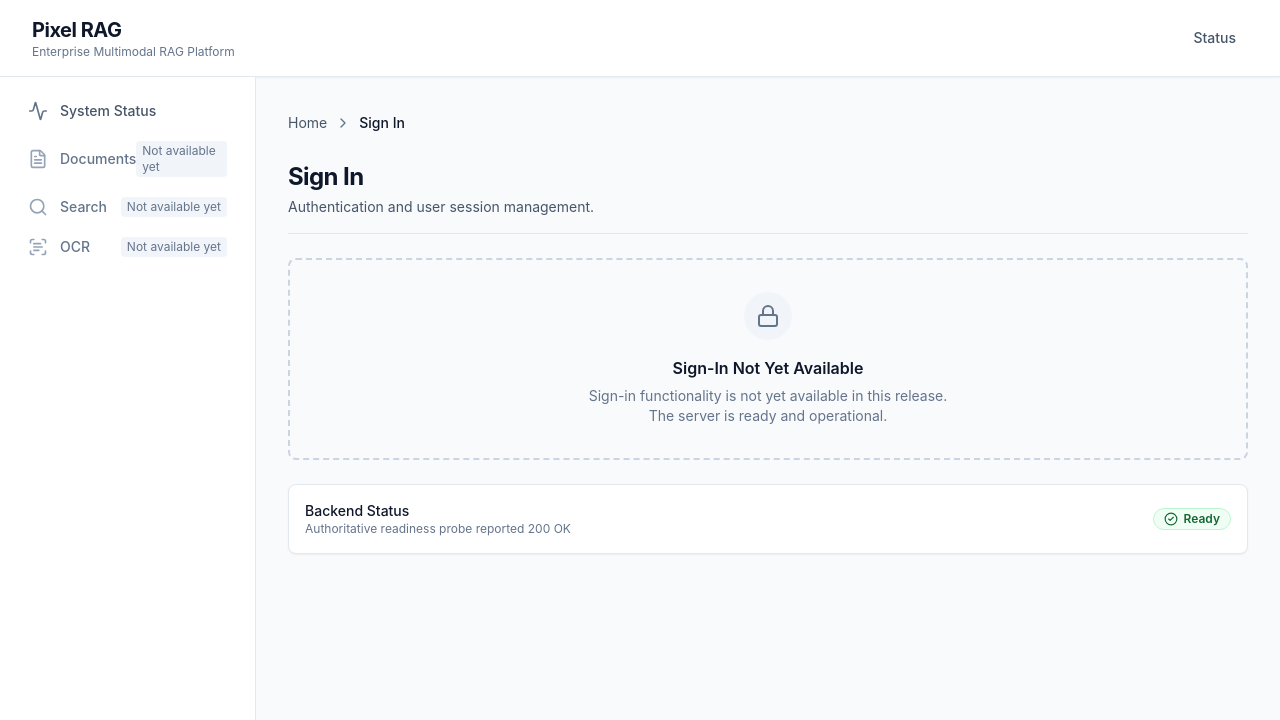
Test: Public Route Shell and Maintenance UX › Navigation, Focus Movement & Real Browser Back › moves focus to the main heading when navigating between routes
Expected: the heading "Sign In" is shown, [288,162,364,191]
Note: Click "Status" in header nav
Step 1. Click the link "Status" → (1215, 38), box [1193,29,1236,46]
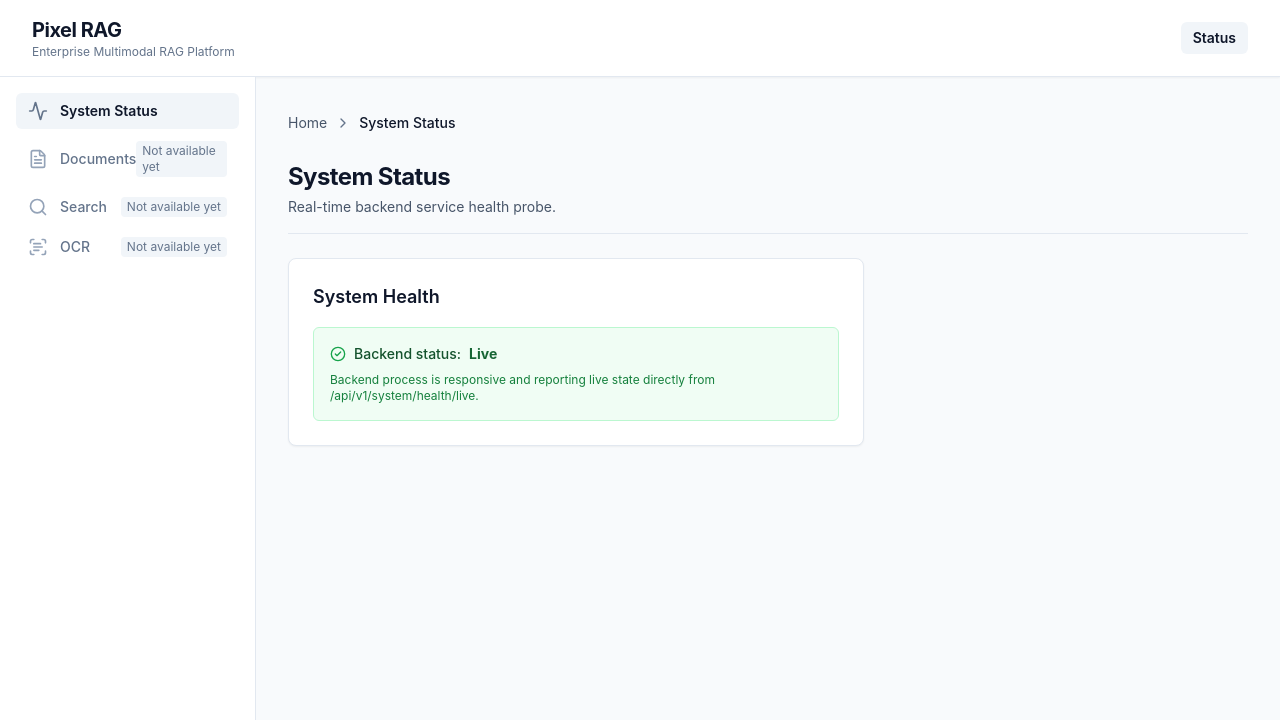
Expected: the heading "System Status" is shown, [288,162,450,191]
